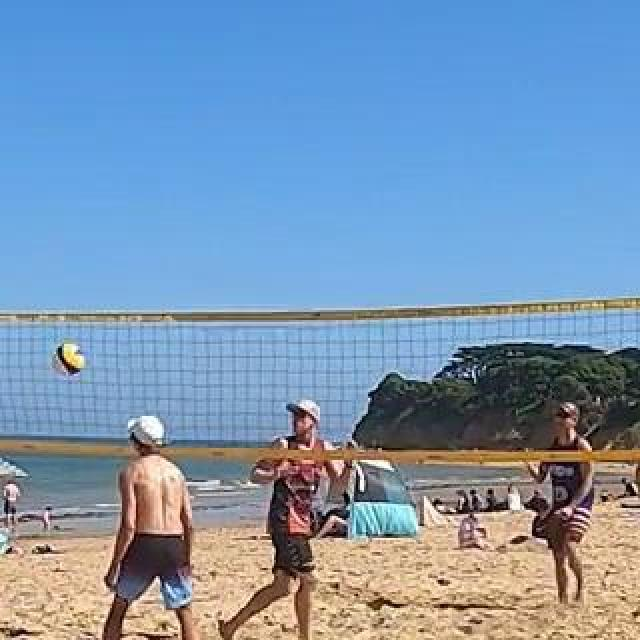volleyball: (53, 345, 85, 377)
